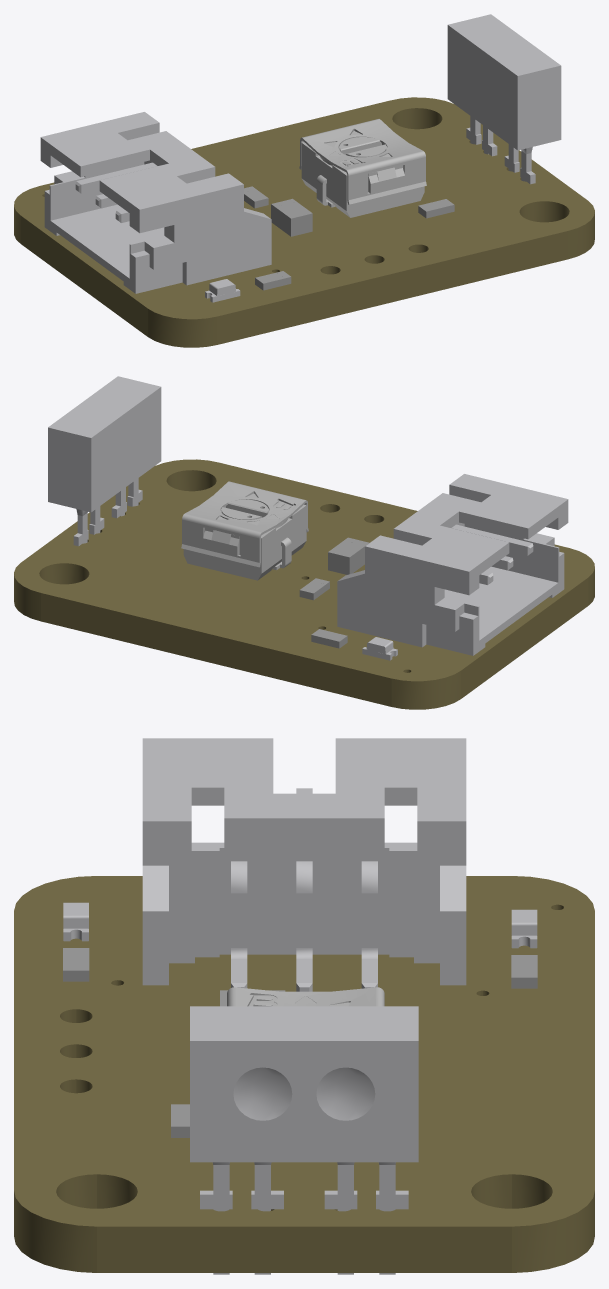
File: ada-5913.glb
3 renders of one model, top to bottom at view 1: azimuth 30°, elevation 25°; view 2: azimuth 150°, elevation 25°; view 3: azimuth 270°, elevation 25°, orthographic. The views are drawn at different scales.
Parts seen in each view (by area): view 1: 0.16666666666666666_0.16666666666666666_0.08333333333333333_, 0.5833333333333334_0.5833333333333334_0.5833333333333334_0.8, 0.5_0.5_0.5_0.85, 0.3333333333333333_0.3333333333333333_0.3333333333333333_0; view 2: 0.16666666666666666_0.16666666666666666_0.08333333333333333_, 0.5833333333333334_0.5833333333333334_0.5833333333333334_0.8, 0.5_0.5_0.5_0.85, 0.3333333333333333_0.3333333333333333_0.3333333333333333_0; view 3: 0.16666666666666666_0.16666666666666666_0.08333333333333333_, 0.5833333333333334_0.5833333333333334_0.5833333333333334_0.8, 0.5_0.5_0.5_0.85, 0.3333333333333333_0.3333333333333333_0.3333333333333333_0.
Part boxes in pixels (<box>): 0.16666666666666666_0.16666666666666666_0.08333333333333333_: <box>14,97,594,347</box>; 0.5833333333333334_0.5833333333333334_0.5833333333333334_0.8: <box>40,14,561,302</box>; 0.5_0.5_0.5_0.85: <box>299,119,426,217</box>; 0.3333333333333333_0.3333333333333333_0.3333333333333333_0: <box>244,186,454,290</box>; 0.16666666666666666_0.16666666666666666_0.08333333333333333_: <box>14,459,594,709</box>; 0.5833333333333334_0.5833333333333334_0.5833333333333334_0.8: <box>48,376,568,660</box>; 0.5_0.5_0.5_0.85: <box>181,481,308,580</box>; 0.3333333333333333_0.3333333333333333_0.3333333333333333_0: <box>299,537,369,648</box>; 0.16666666666666666_0.16666666666666666_0.08333333333333333_: <box>14,876,594,1272</box>; 0.5833333333333334_0.5833333333333334_0.5833333333333334_0.8: <box>63,738,537,1274</box>; 0.5_0.5_0.5_0.85: <box>227,987,384,1006</box>; 0.3333333333333333_0.3333333333333333_0.3333333333333333_0: <box>63,948,537,1137</box>.
Size of the model in its own units: 2.55 by 0.8499 by 1.78.
